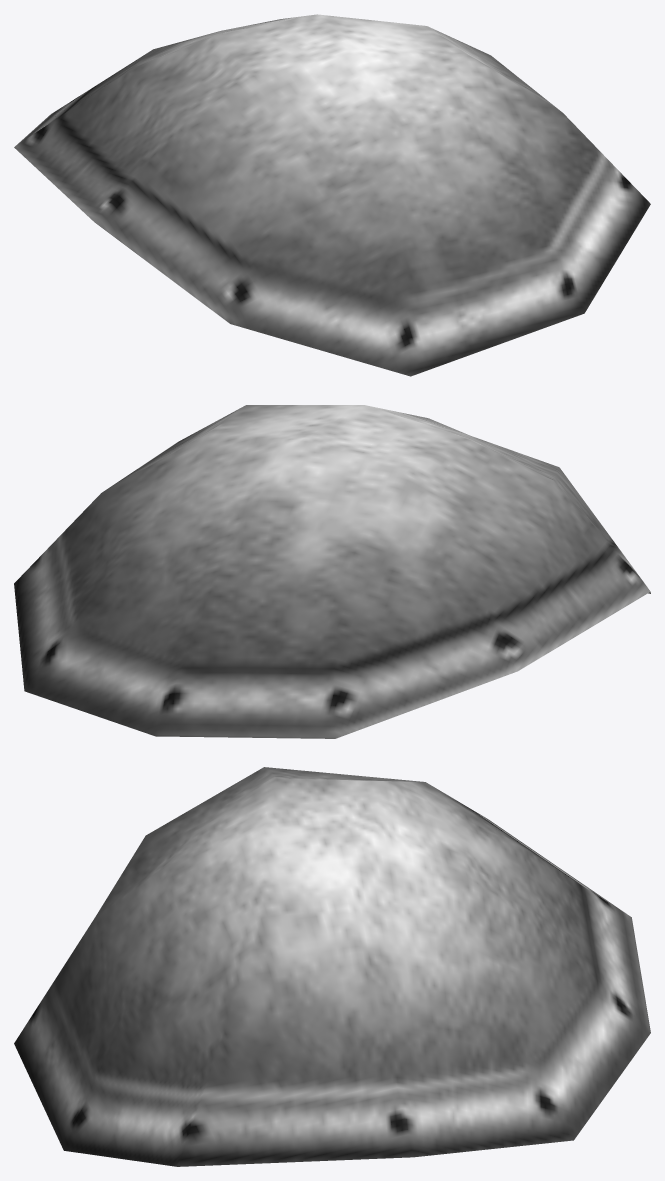
Rendered from LAS_1_Shoulder_L.obj.
3 views of the same model, one above another, from view 1: azimuth 30°, elevation 25°; view 2: azimuth 150°, elevation 25°; view 3: azimuth 270°, elevation 25° (orthographic). The views are drawn at different scales.
Parts seen in each view (by area): view 1: Knight.008_proxy741.obj.007; view 2: Knight.008_proxy741.obj.007; view 3: Knight.008_proxy741.obj.007.
Part boxes in pixels (x1,y1,x2,y2): Knight.008_proxy741.obj.007: (14, 14, 650, 376); Knight.008_proxy741.obj.007: (14, 405, 650, 738); Knight.008_proxy741.obj.007: (14, 767, 650, 1166).
Size of the model in its own units: 0.1783 by 0.0751 by 0.1734.
